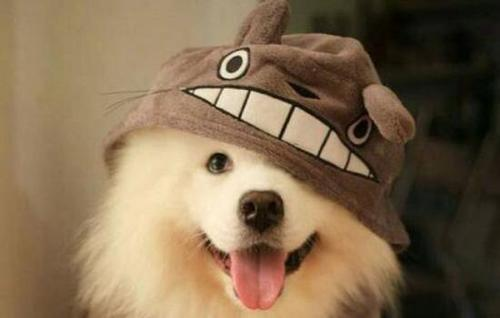dog: (98, 88, 430, 318)
